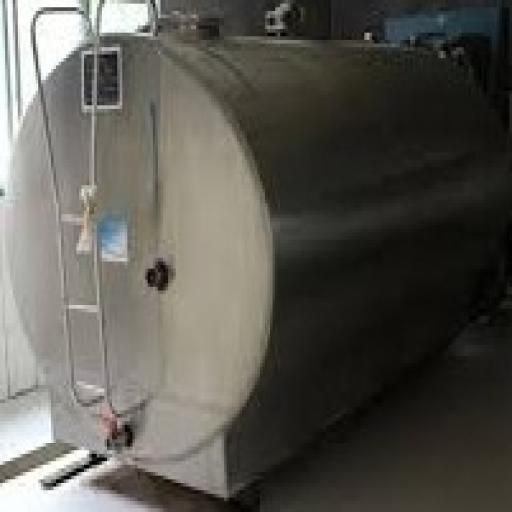silo: (1, 14, 507, 493)
